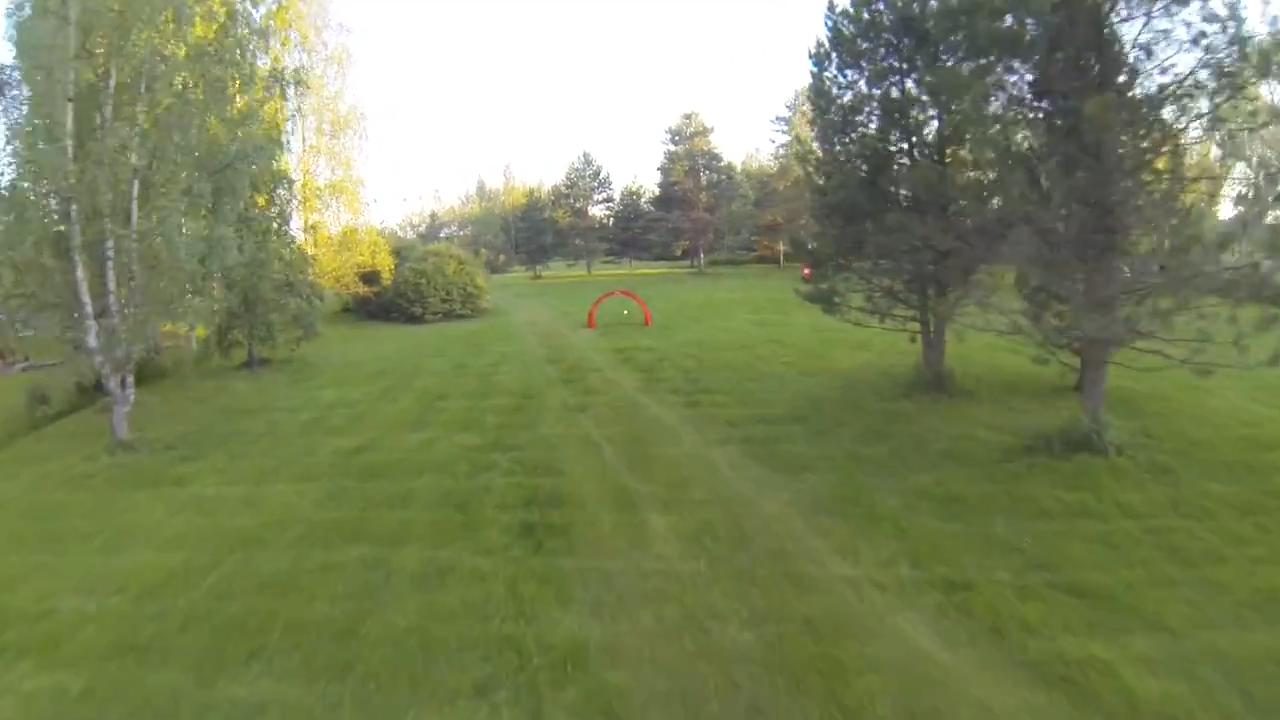gate: (583, 288, 653, 332)
